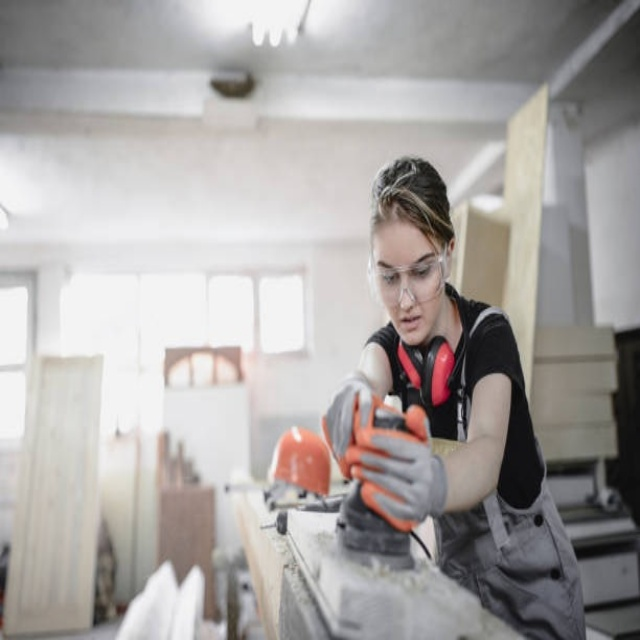Gafas: (374, 246, 449, 303)
Guantes: (351, 423, 449, 526), (324, 372, 380, 463)
Sin_mascara: (390, 309, 430, 342)
